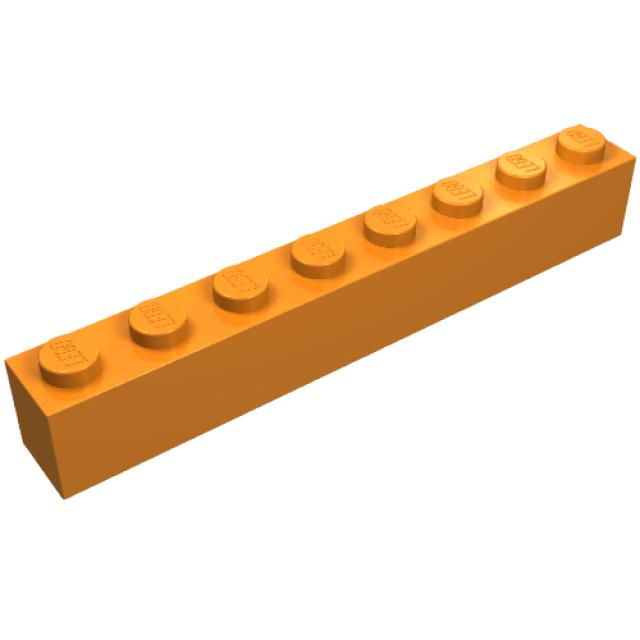Orange_Large: (4, 124, 640, 502)
